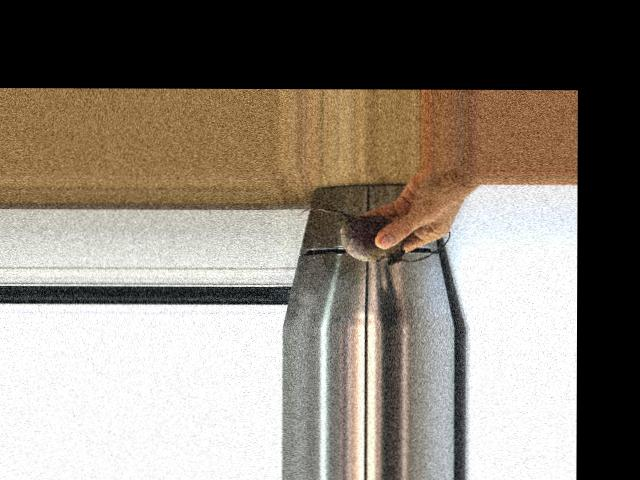beet: (296, 207, 450, 264)
